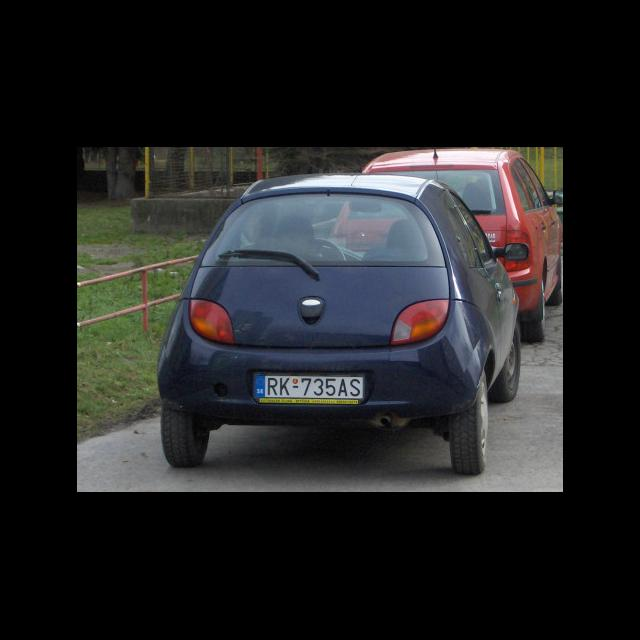Plate: (251, 370, 367, 404)
